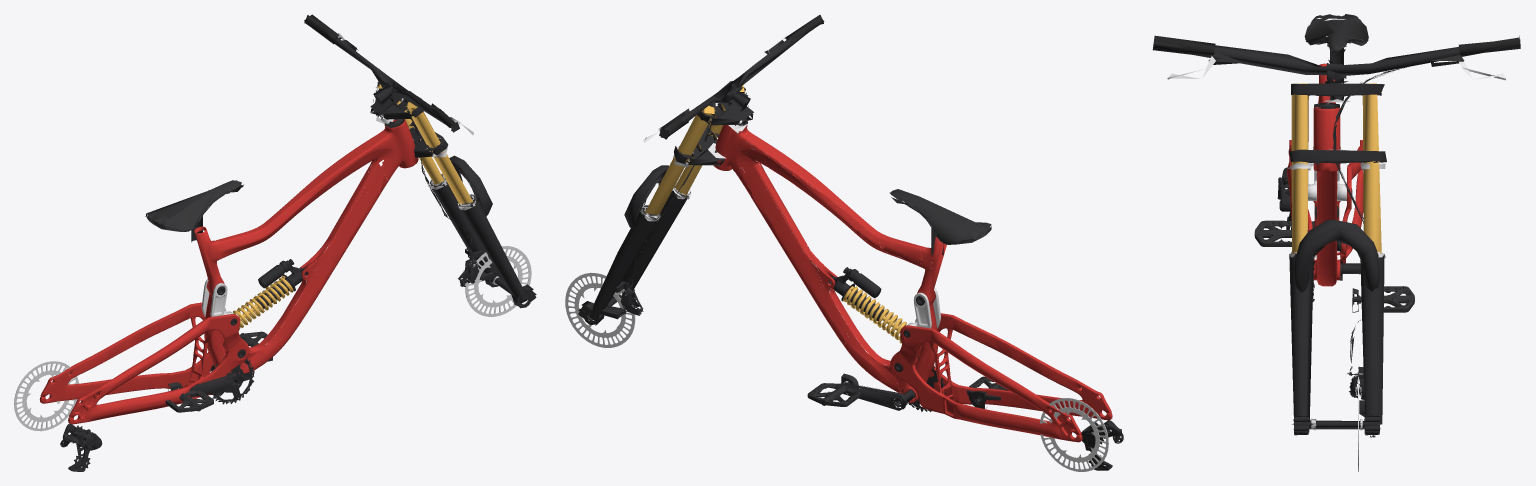
Rendered from dhframe.glb.
The picture shows the model from 3 angles, left to right: view 1: azimuth 30°, elevation 25°; view 2: azimuth 150°, elevation 25°; view 3: azimuth 270°, elevation 25°; orthographic projection. The views are drawn at different scales.
Parts seen in each view (by area): view 1: frame, seatstay, steer, fork_lower, crank, wheel_rear, wheel_front, shock_spring, shock_body; view 2: frame, seatstay, steer, fork_lower, crank, wheel_rear, wheel_front, shock_spring, shock_body; view 3: steer, fork_lower, frame, crank, seatstay.
Boxes of the visible parts, x1,y1,x2,y2 form: frame: (145,119,418,376); seatstay: (39,302,249,471); steer: (304,14,473,254); fork_lower: (428,155,536,308); crank: (165,331,272,412); wheel_rear: (14,361,78,431); wheel_front: (465,245,531,316); shock_spring: (233,276,293,330); shock_body: (256,259,307,308); frame: (713,121,991,403); seatstay: (890,313,1123,470); steer: (633,15,824,275); fork_lower: (578,165,691,325); crank: (807,366,1008,411); wheel_rear: (1040,398,1108,471); wheel_front: (565,272,635,347); shock_spring: (843,286,906,343); shock_body: (827,267,883,320); steer: (1152,35,1520,362); fork_lower: (1289,219,1385,437); frame: (1304,14,1368,286); crank: (1254,220,1414,312); seatstay: (1277,140,1363,263).
Bounding box in the file's own units: 1.58 × 0.916 × 0.7873.
